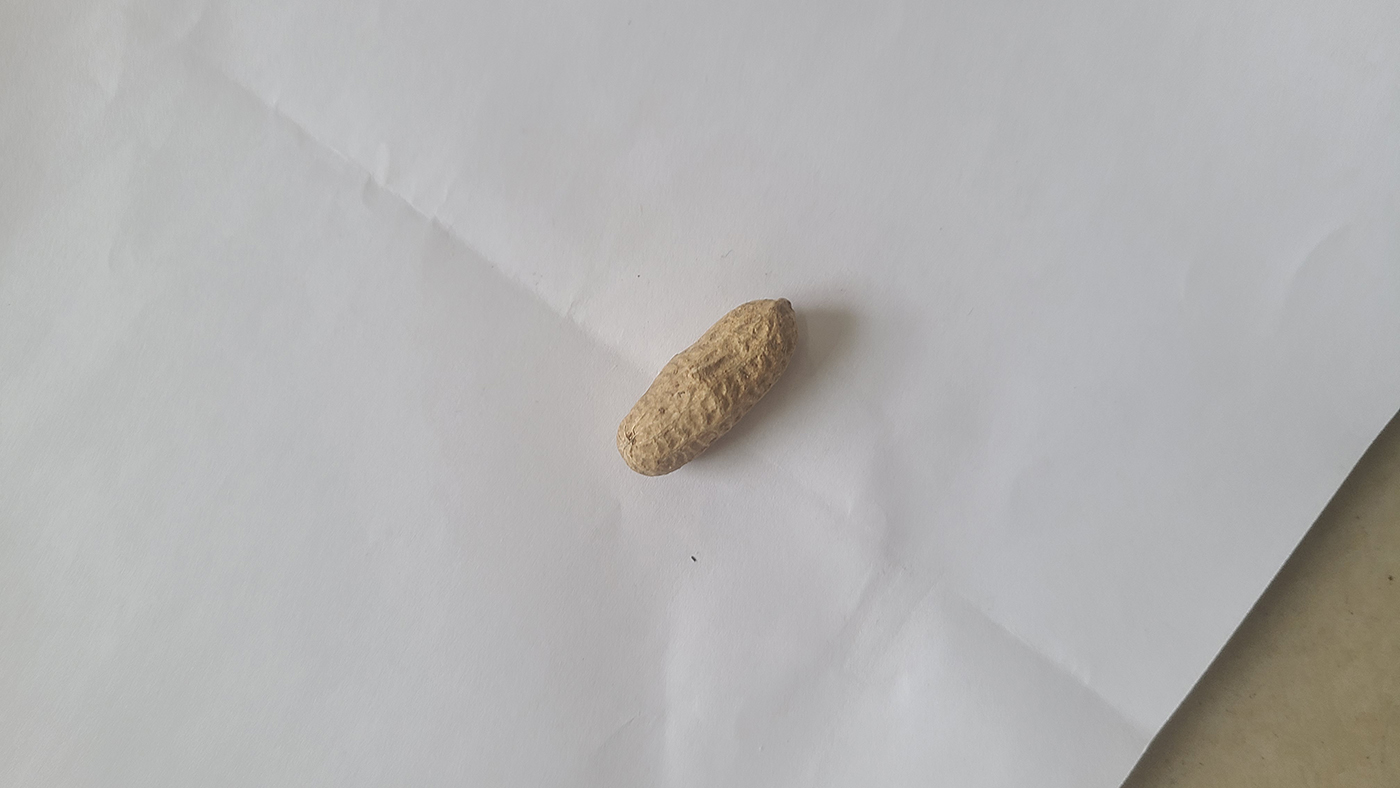h: (613, 296, 797, 478)
